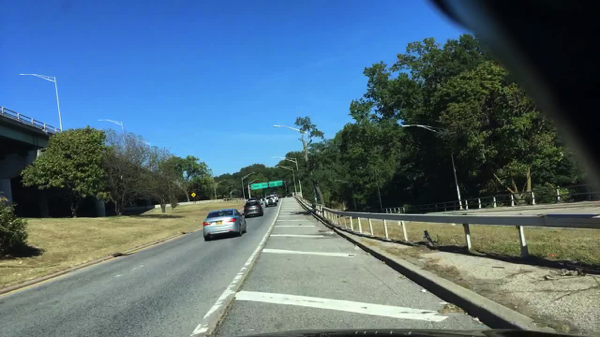car: (203, 209, 245, 242), (243, 201, 264, 218), (264, 195, 277, 207), (246, 197, 260, 204), (272, 194, 279, 201)
traffic sign: (249, 182, 267, 191), (268, 180, 282, 187), (190, 191, 196, 198)
